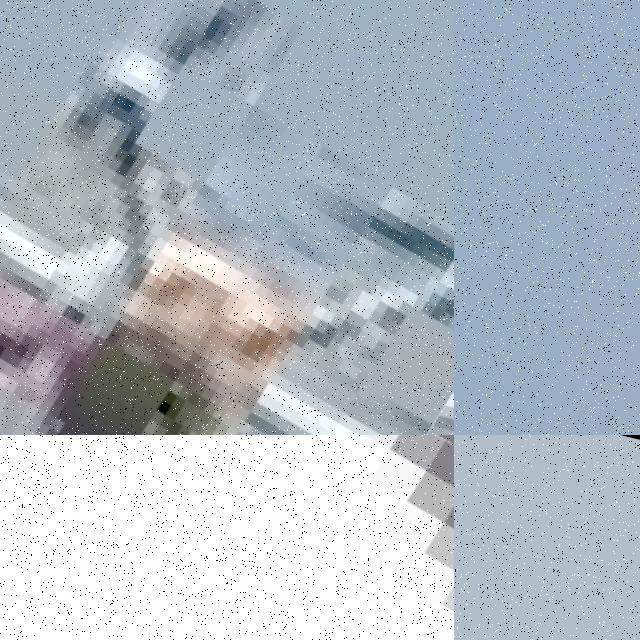drone: (0, 0, 454, 435), (0, 435, 454, 640)
